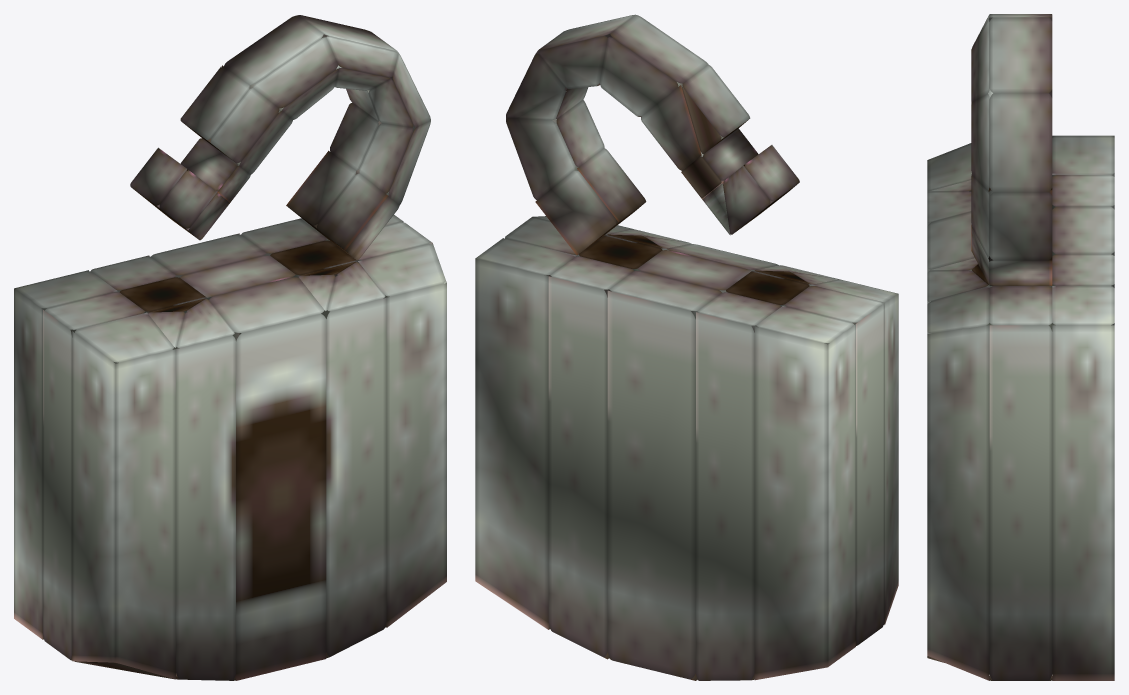
The picture shows the model from 3 angles, left to right: view 1: azimuth 30°, elevation 25°; view 2: azimuth 150°, elevation 25°; view 3: azimuth 270°, elevation 25°; orthographic projection. The views are drawn at different scales.
Parts seen in each view (by area): view 1: T1L6M001_18; view 2: T1L6M001_18; view 3: T1L6M001_18.
Part boxes in pixels (x1,y1,x2,y2): T1L6M001_18: [14, 15, 446, 680]; T1L6M001_18: [475, 14, 898, 680]; T1L6M001_18: [927, 14, 1114, 680].
Bounding box in the file's own units: 0.4795 × 0.7764 × 0.2002.
